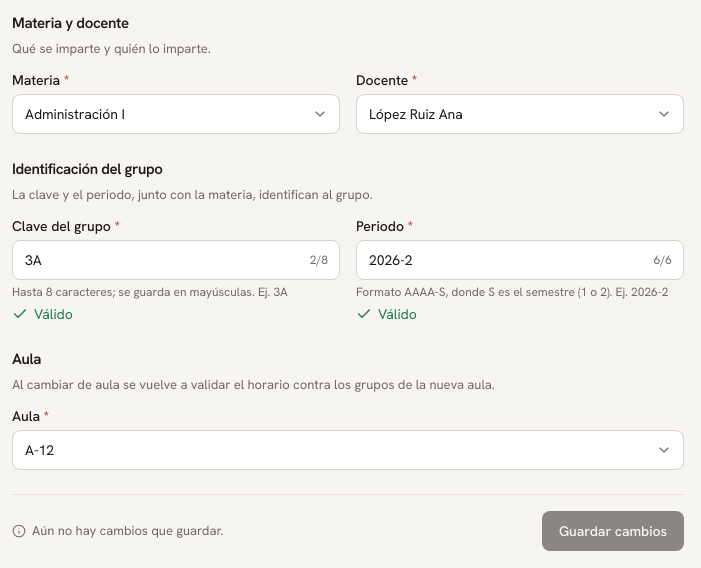
Test: GrupoForm (edición) › guarda con el mismo payload (con id_grupo) y avisa al contenedor
expect the text "Aún no hay cambios que guardar." is shown: met, box [32,522,223,540]
Type "3b" into the field labelled "Clave del grupo *".
click(176, 260); type("3b")  # box [12,240,340,280]
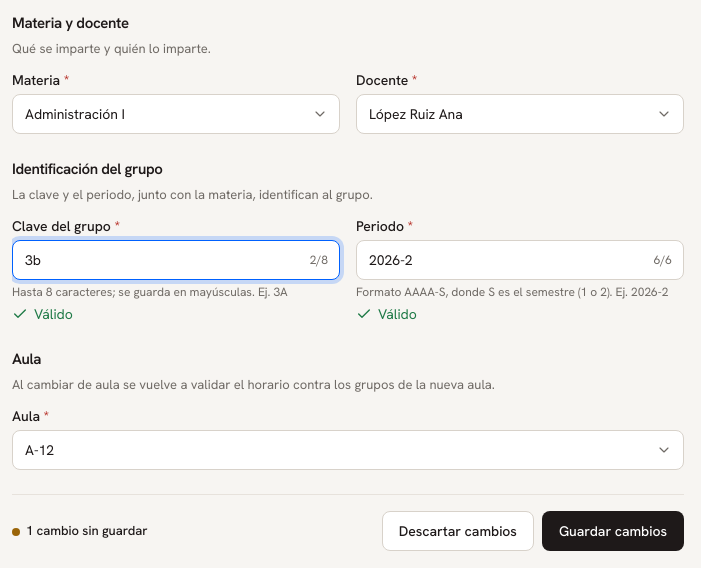
Click the button "Guardar cambios".
click(613, 531)  # box [542,511,684,551]
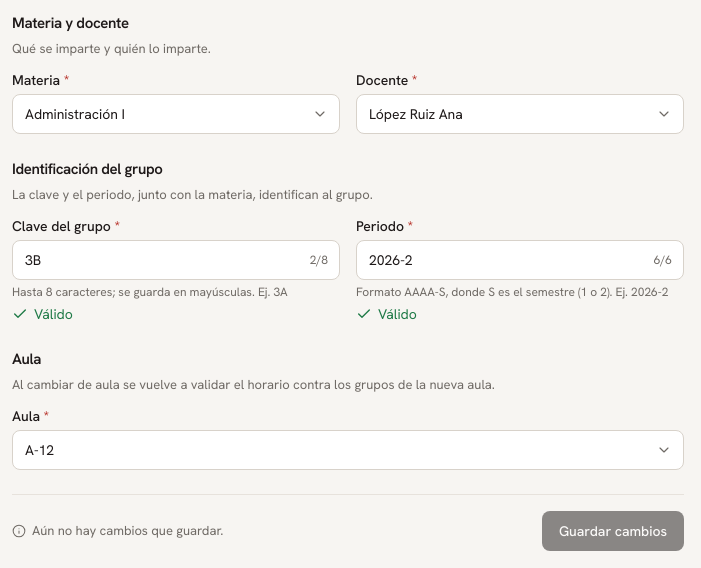
expect the text "cambio sin guardar" is gone: met
